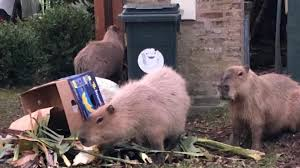capivara: (78, 64, 192, 155), (217, 64, 300, 149), (73, 25, 125, 81)
